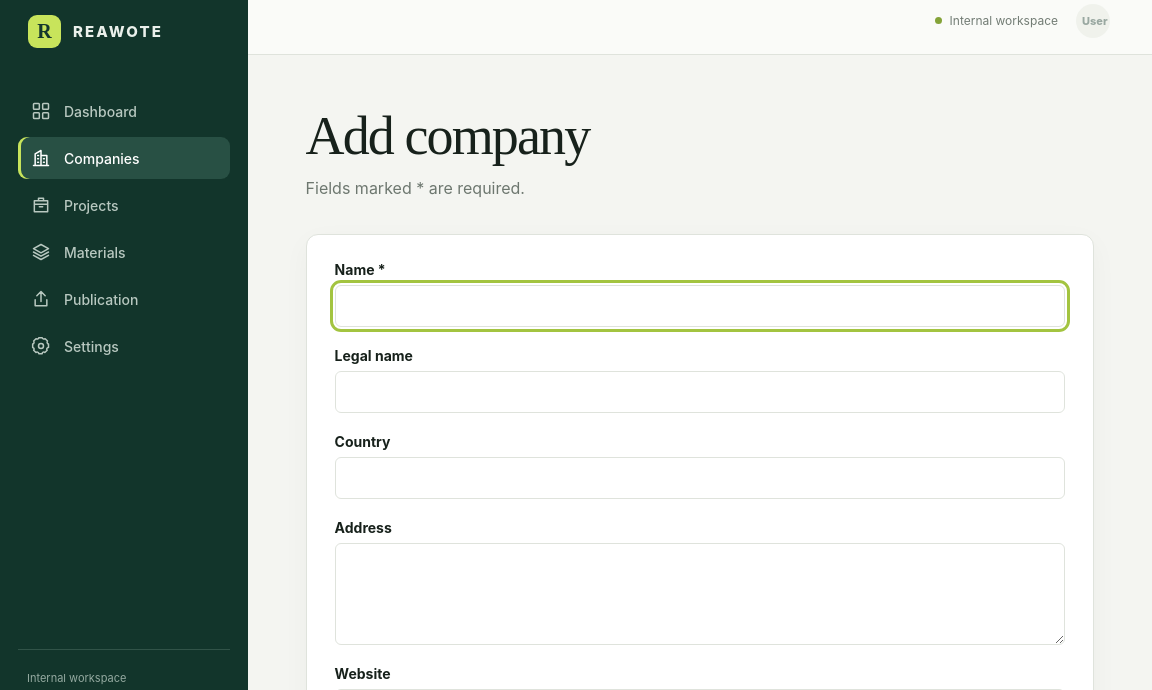
it: HTTP forms › creates a company using only writable snake_case fields and navigates to detail
Type "  New company  " into the field labelled "Name *" at (700, 306), box [335, 285, 1065, 327]
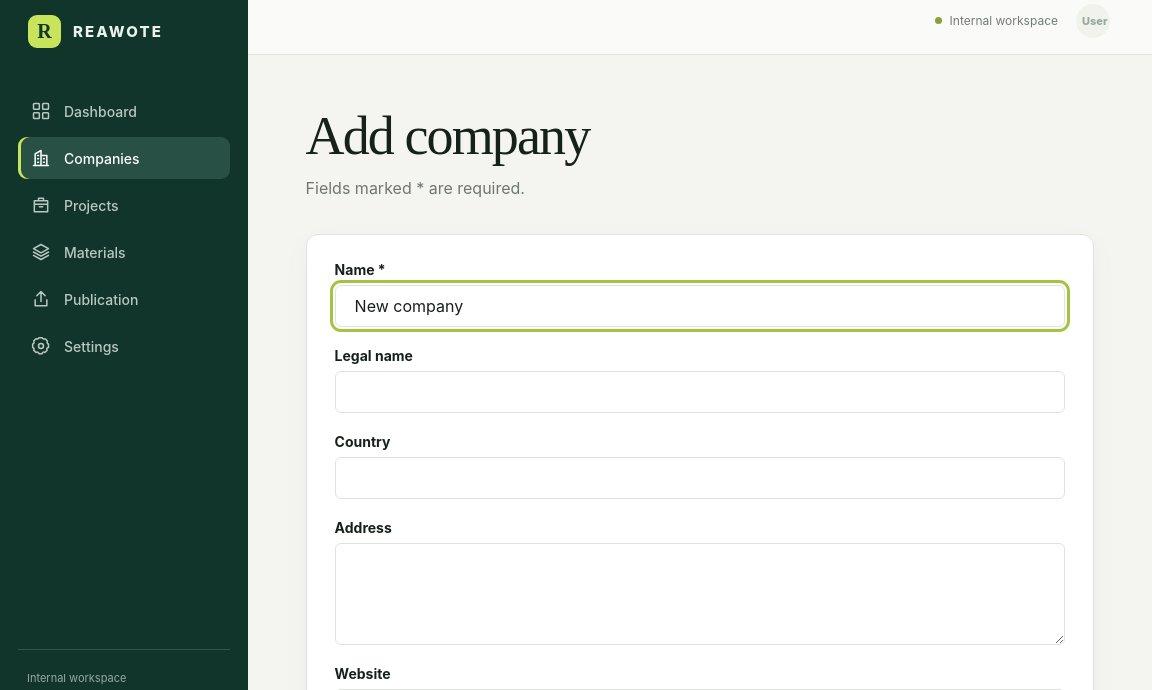
Type "New Company Ltd" into the field labelled "Legal name" at (700, 392), box [335, 371, 1065, 413]
(page scrolled)
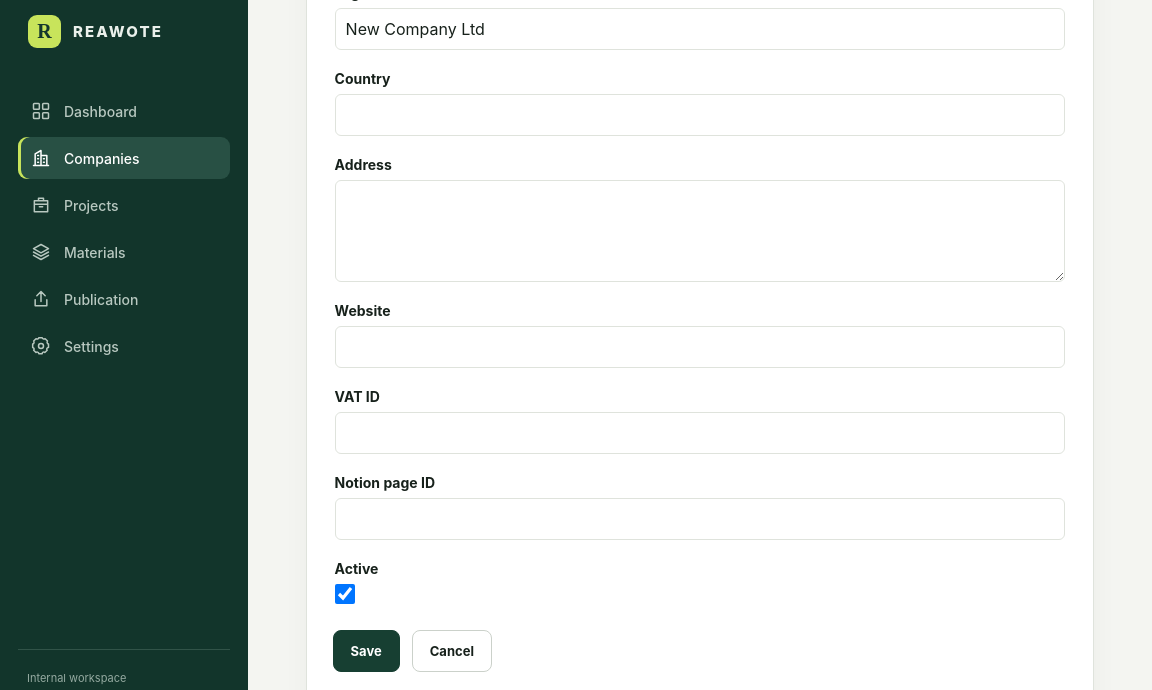
Type "https://example.com/" into the field labelled "Website" at (700, 347), box [335, 326, 1065, 368]
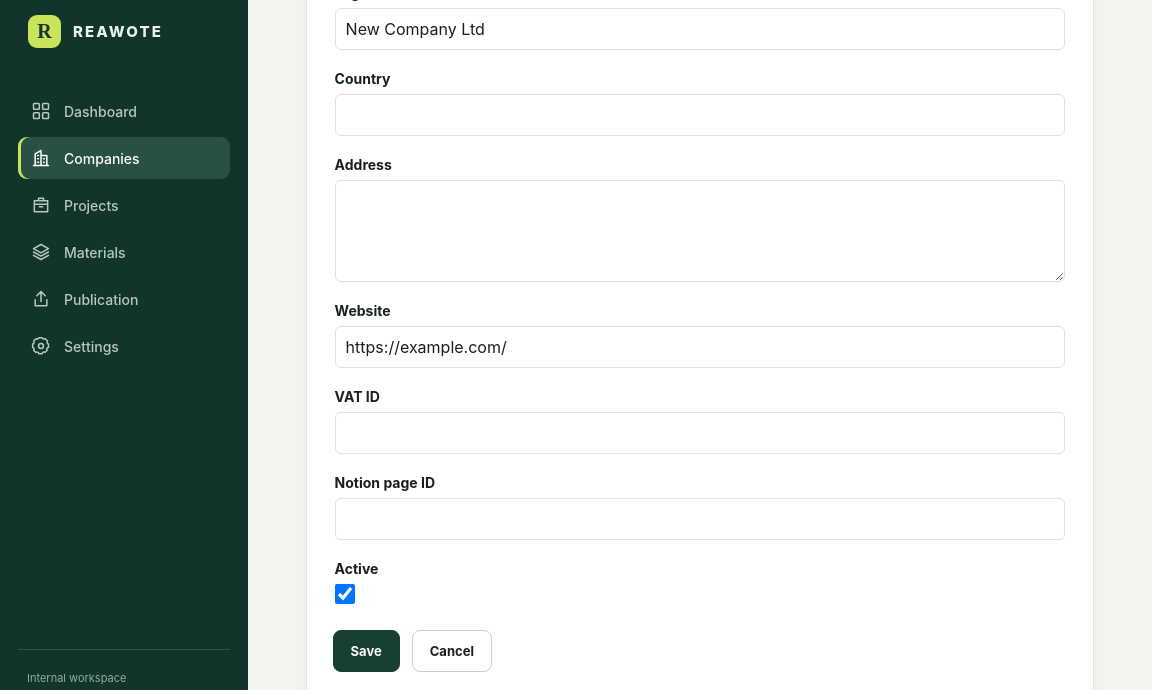
Click the button "Save" at (366, 651), box [333, 630, 400, 672]
(page scrolled)
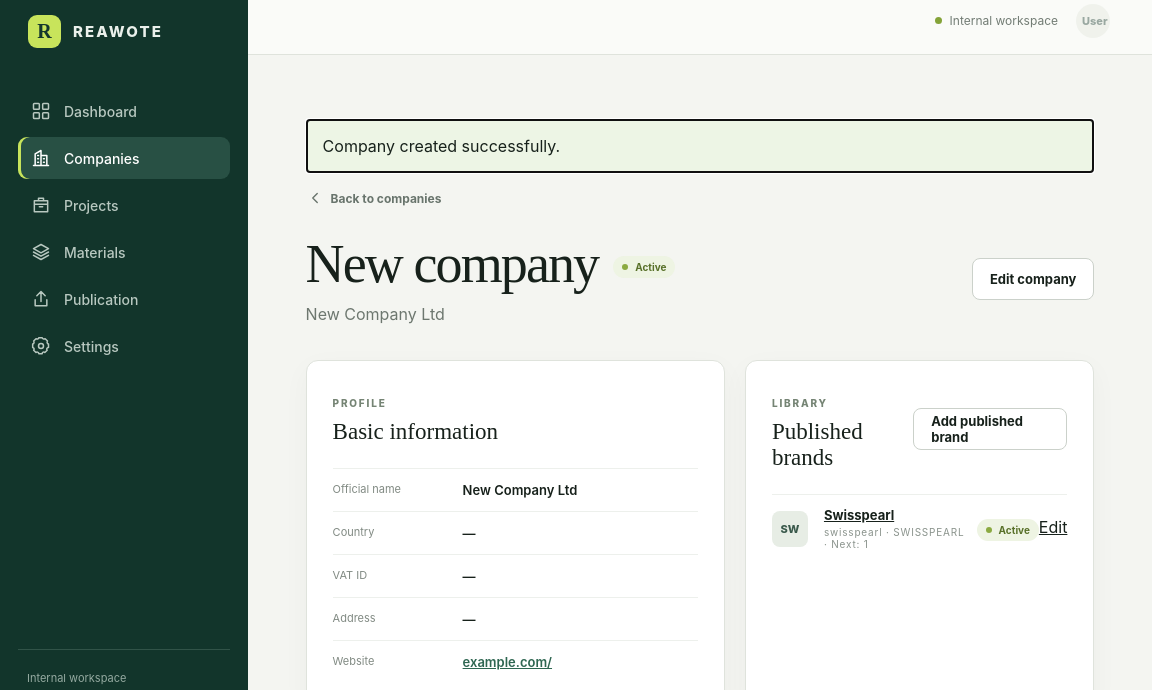
Now the heading "New company" is shown, box [306, 233, 598, 295]
